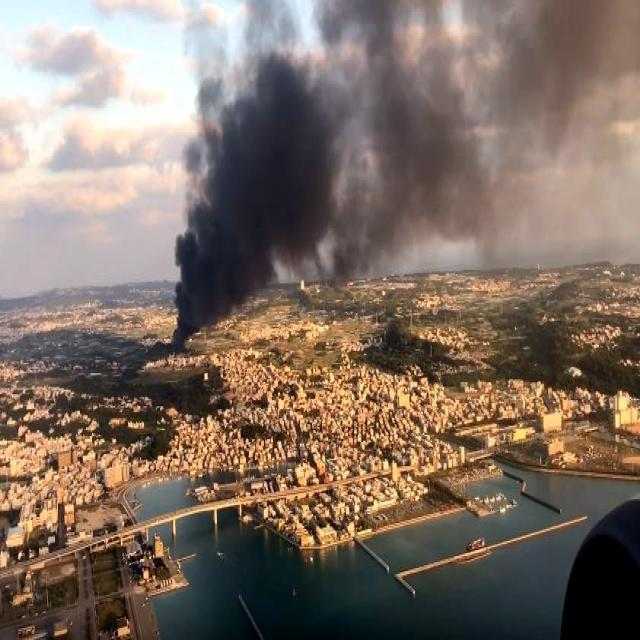Smoke: (170, 0, 620, 340)
